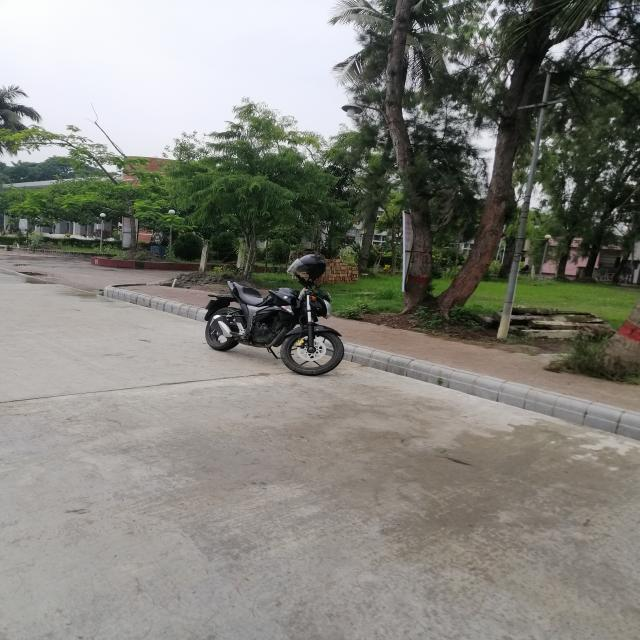Motorbike: (189, 252, 366, 390)
